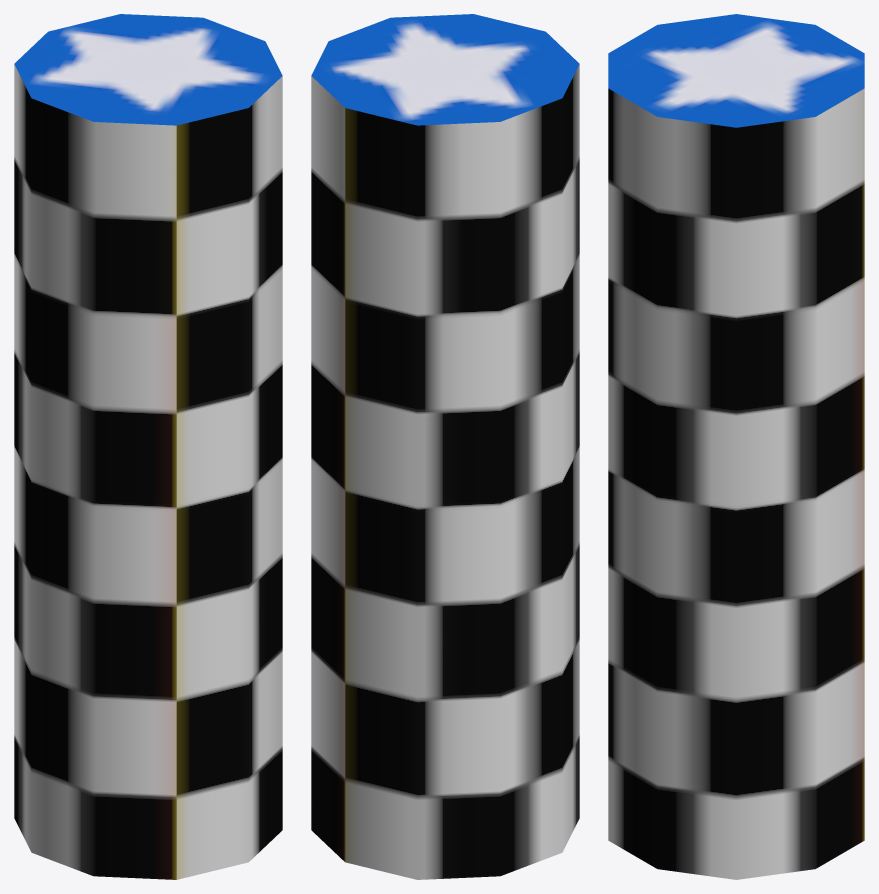
File: SportRod.FBX
3 views of the same model, side by side, from view 1: azimuth 30°, elevation 25°; view 2: azimuth 150°, elevation 25°; view 3: azimuth 270°, elevation 25° (orthographic).
Visible parts, largest first — view 1: RCyl2_01; view 2: RCyl2_01; view 3: RCyl2_01.
Boxes of the visible parts, box(x1,y1,x2,y2) form: RCyl2_01: box(14, 14, 282, 879); RCyl2_01: box(311, 14, 579, 879); RCyl2_01: box(608, 14, 864, 879).
Bounding box in the file's own units: 2.61 × 8.03 × 2.48.
